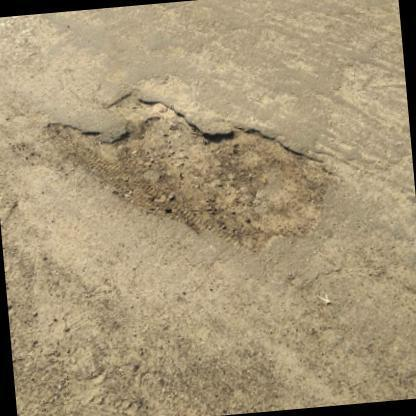pothole: (36, 98, 334, 244)
